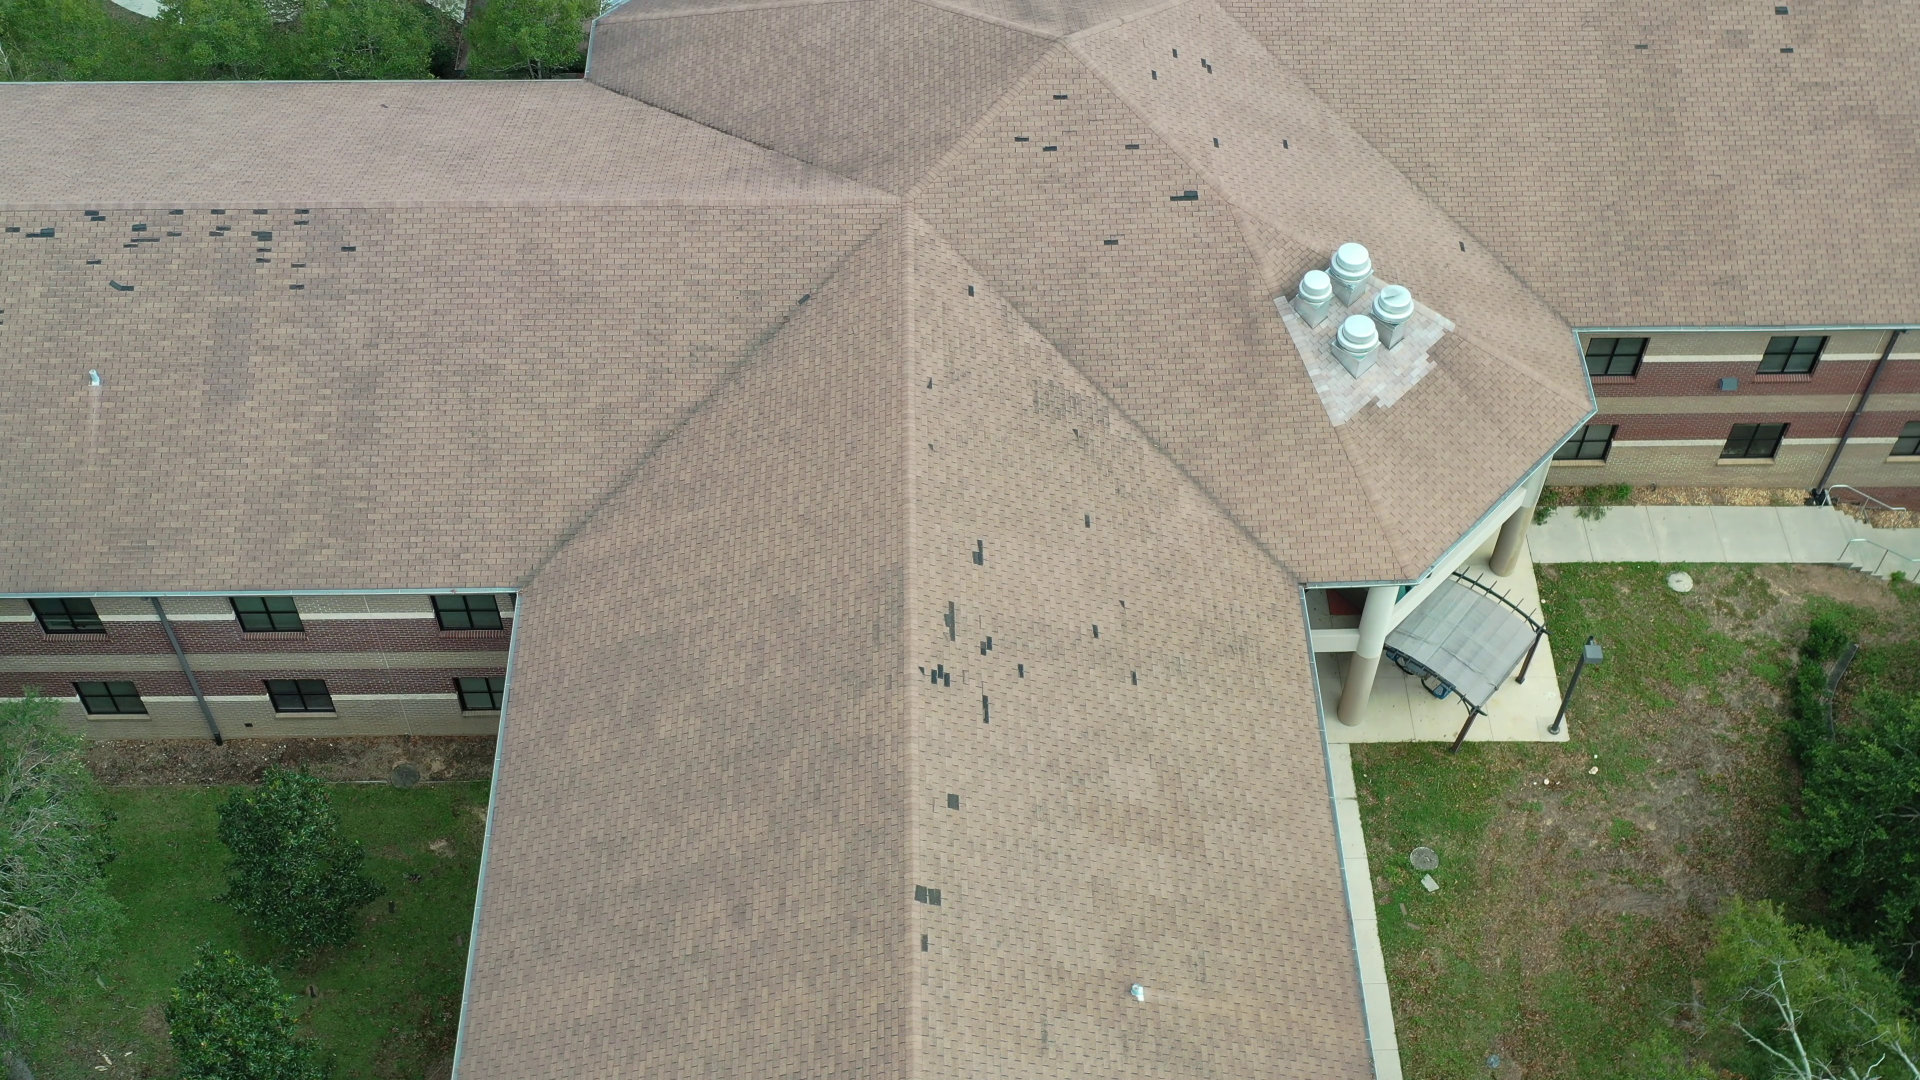Light: (4, 208, 357, 291), (916, 599, 1025, 723), (1092, 599, 1139, 687), (913, 885, 942, 953), (1171, 47, 1213, 75), (1013, 135, 1058, 153), (1168, 190, 1200, 203), (972, 541, 984, 567), (945, 793, 960, 811), (1774, 5, 1789, 17), (1051, 92, 1069, 102), (1102, 237, 1120, 247), (1124, 142, 1141, 152), (1779, 46, 1795, 55), (1083, 512, 1091, 529), (967, 284, 976, 298), (1211, 136, 1220, 149), (1150, 67, 1158, 80), (1634, 44, 1650, 50), (1282, 137, 1288, 150)
